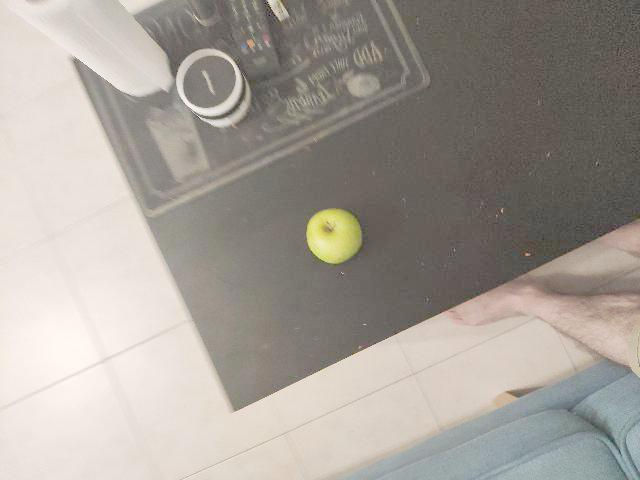apple: (208, 302, 292, 384)
